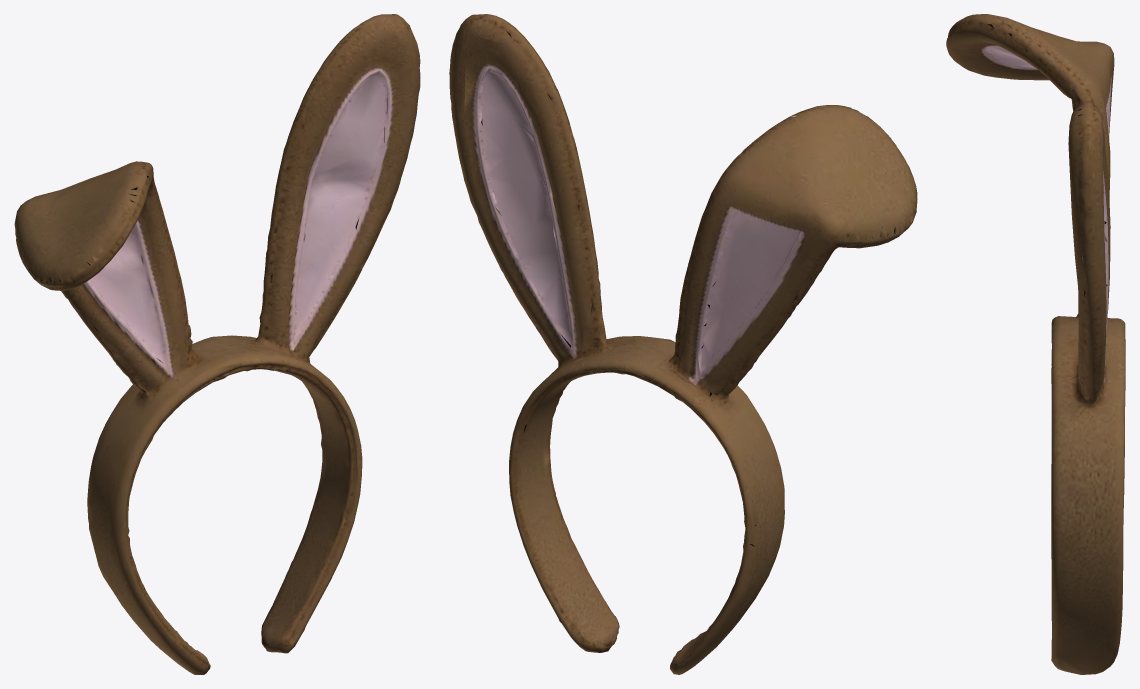
The model's file is bunny.glb.
3 views of the same model, side by side, from view 1: azimuth 30°, elevation 25°; view 2: azimuth 150°, elevation 25°; view 3: azimuth 270°, elevation 25° (orthographic). The views are drawn at different scales.
Visible parts, largest first — view 1: node_0; view 2: node_0; view 3: node_0.
Part boxes in pixels (x1,y1,x2,y2): node_0: (14,14,420,674); node_0: (449,14,917,674); node_0: (946,14,1125,674).
Bounding box in the file's own units: 0.46 × 0.6391 × 0.1668.
Materials: 1 (1 with a texture image).
